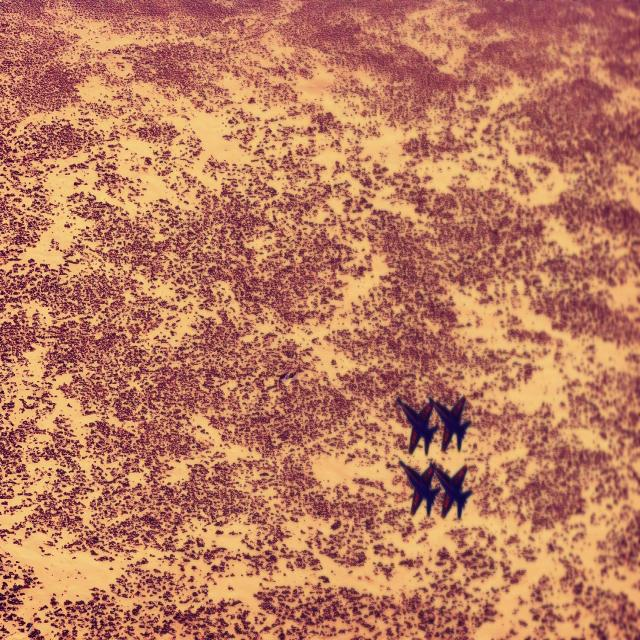airplane: (429, 459, 473, 520), (428, 394, 471, 453), (396, 395, 438, 455), (398, 459, 441, 517)
